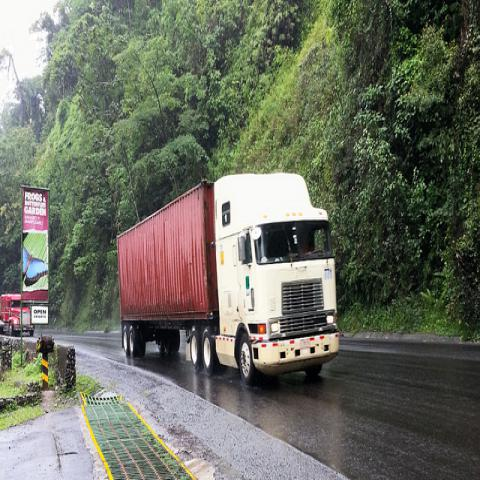truck: (116, 172, 340, 385), (0, 294, 34, 335)
